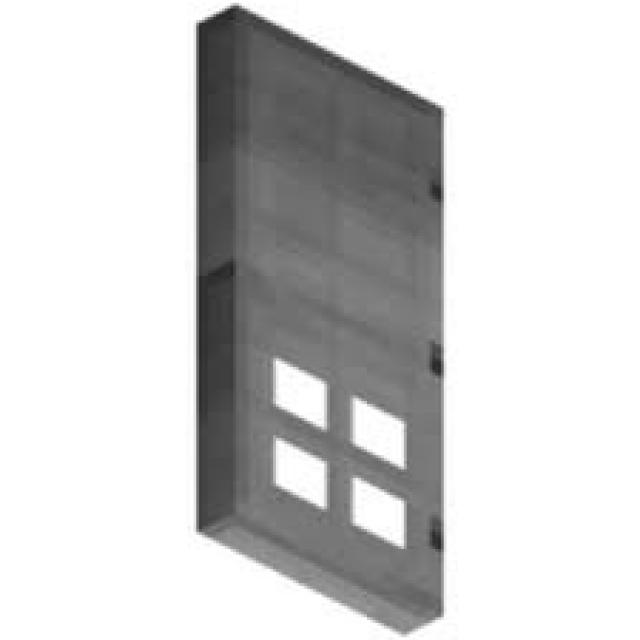door: (194, 4, 446, 639)
